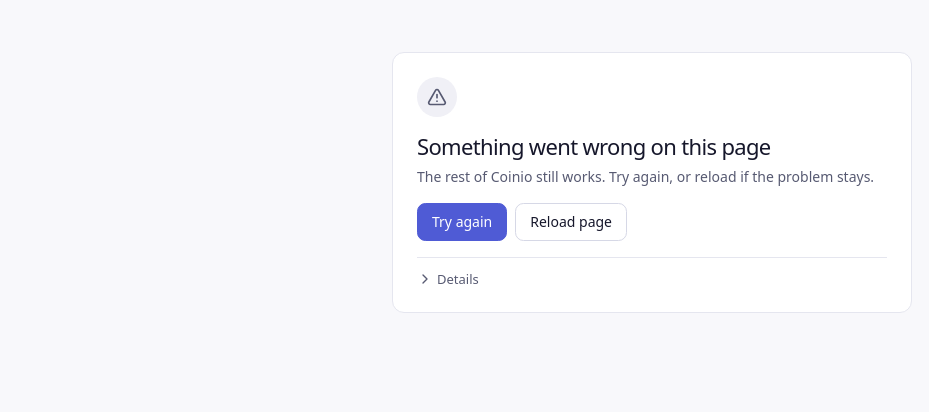
ErrorBoundary › shows the page fallback with details, and Try again renders the page once it works
Expected: the message shows "Something went wrong on this page", x1=417 y1=131 x2=771 y2=161
What coordinates should you click on to do the following:
click the button "Details"
I would click on:
 (448, 279)
Its box is x1=417 y1=270 x2=479 y2=288.
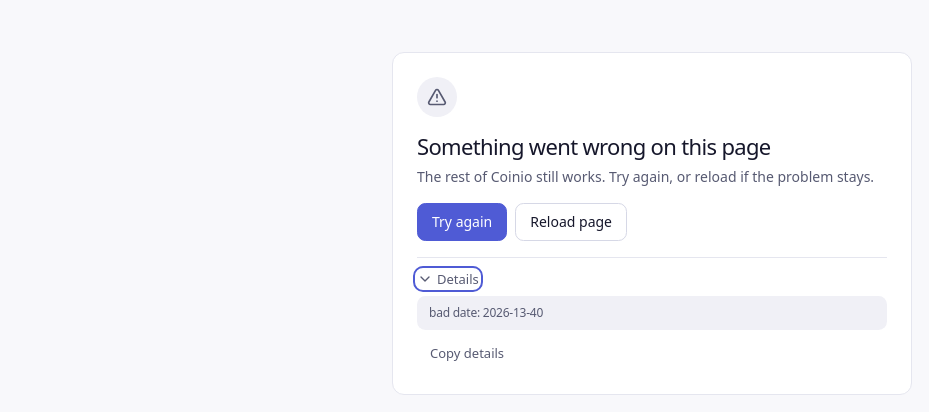
Expected: the text "bad date: 2026-13-40" is shown, x1=417 y1=296 x2=887 y2=330
What coordinates should you click on to do the following:
click the button "Try again"
I would click on:
 (462, 222)
Its box is x1=417 y1=202 x2=507 y2=240.
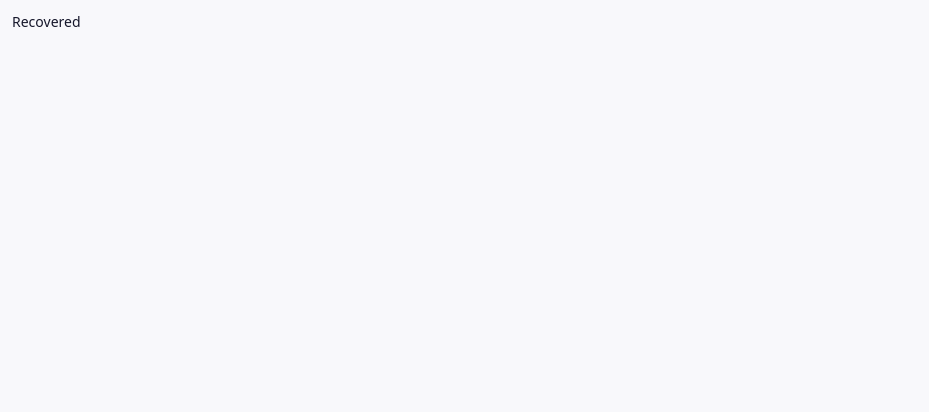
Expected: the text "Recovered" is shown, x1=12 y1=12 x2=80 y2=31
